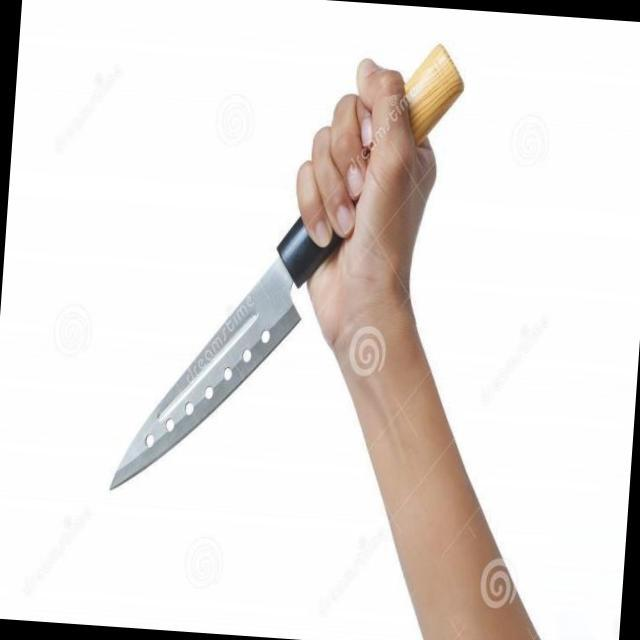Knife: (102, 106, 383, 515)
